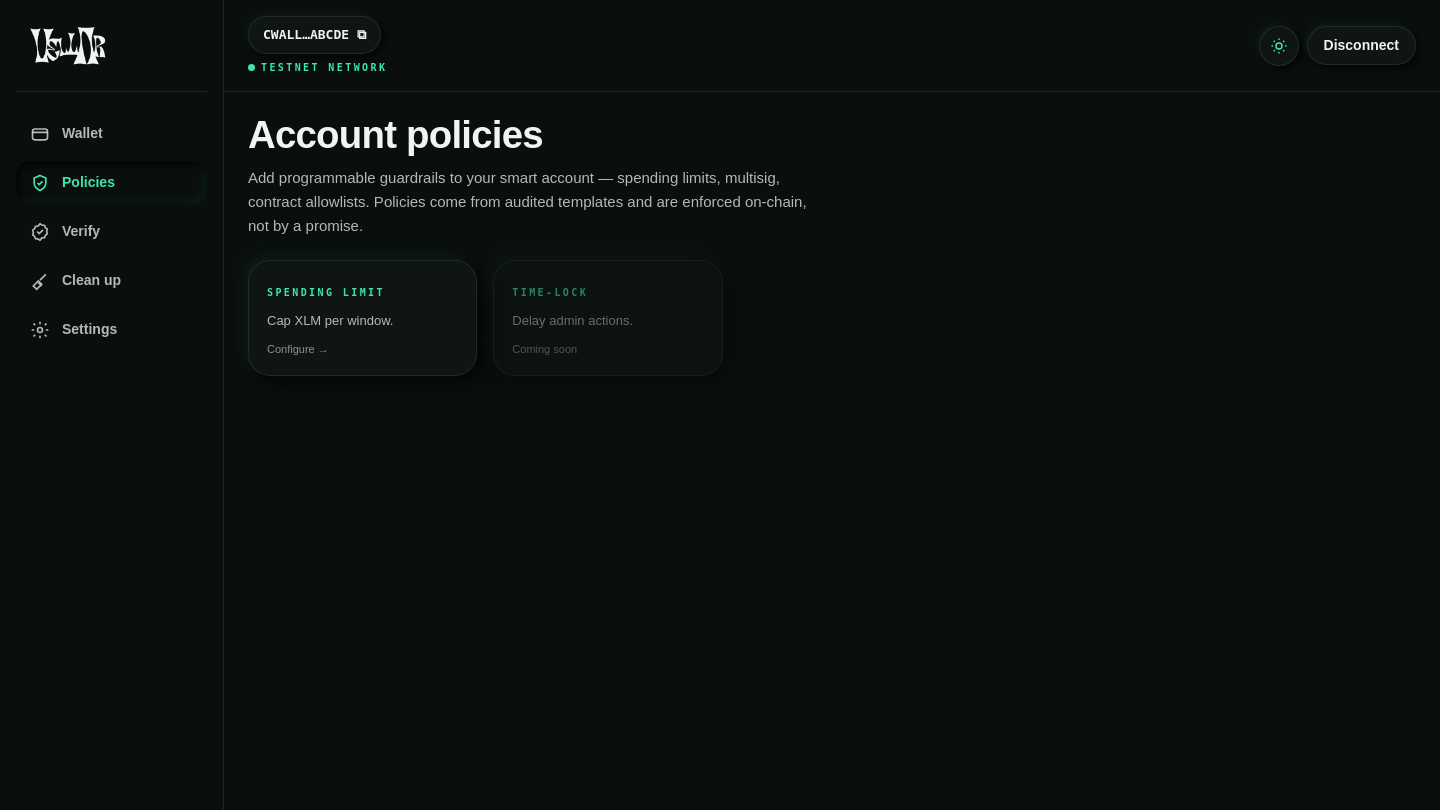
Policy builder › surfaces validation errors without generating
The width and height of the screenshot is (1440, 810).
Step 1. Click the text "Spending limit" → (326, 293), box [267,287,385,298]
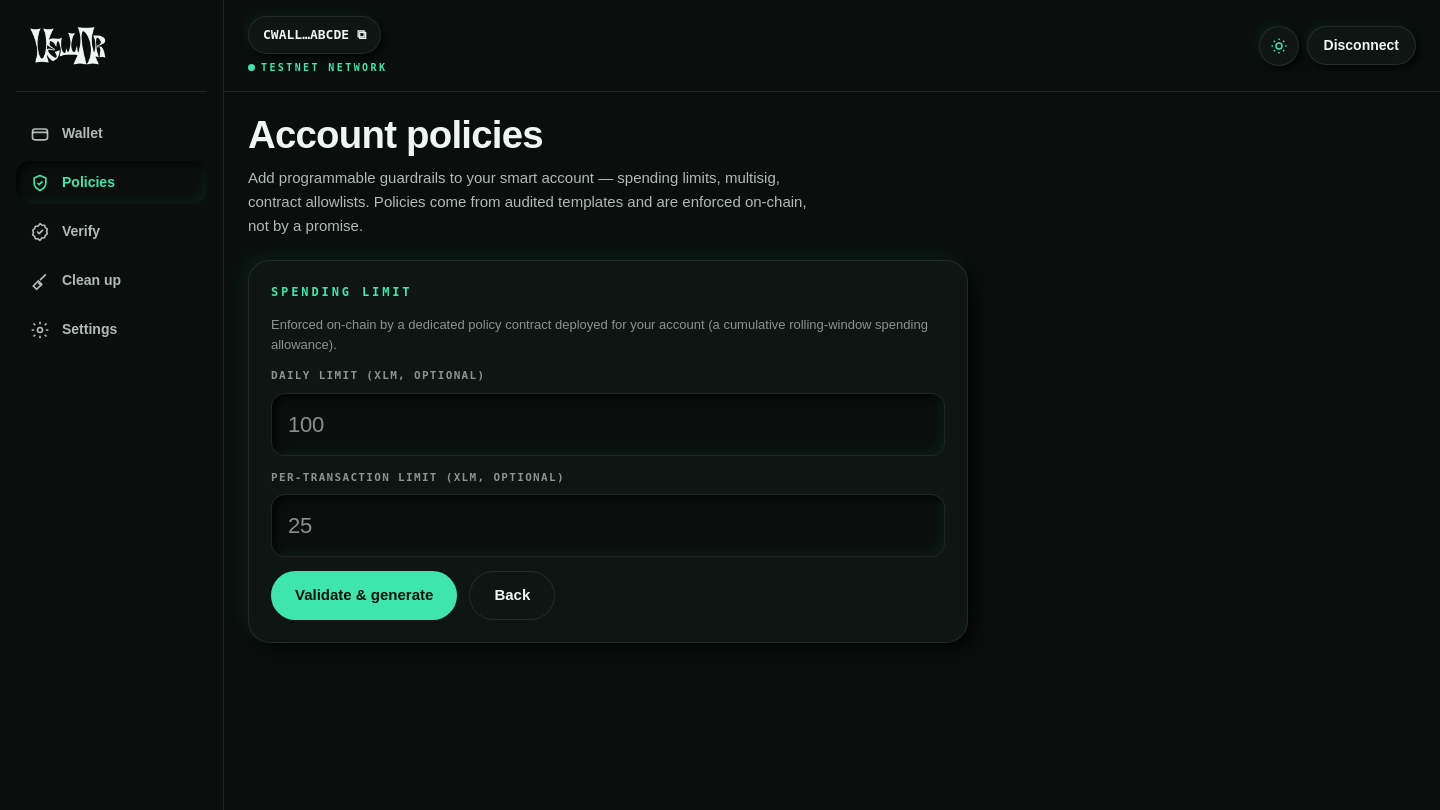
Step 2. Click the button "Validate & generate" → (364, 596), box [271,571,457,620]
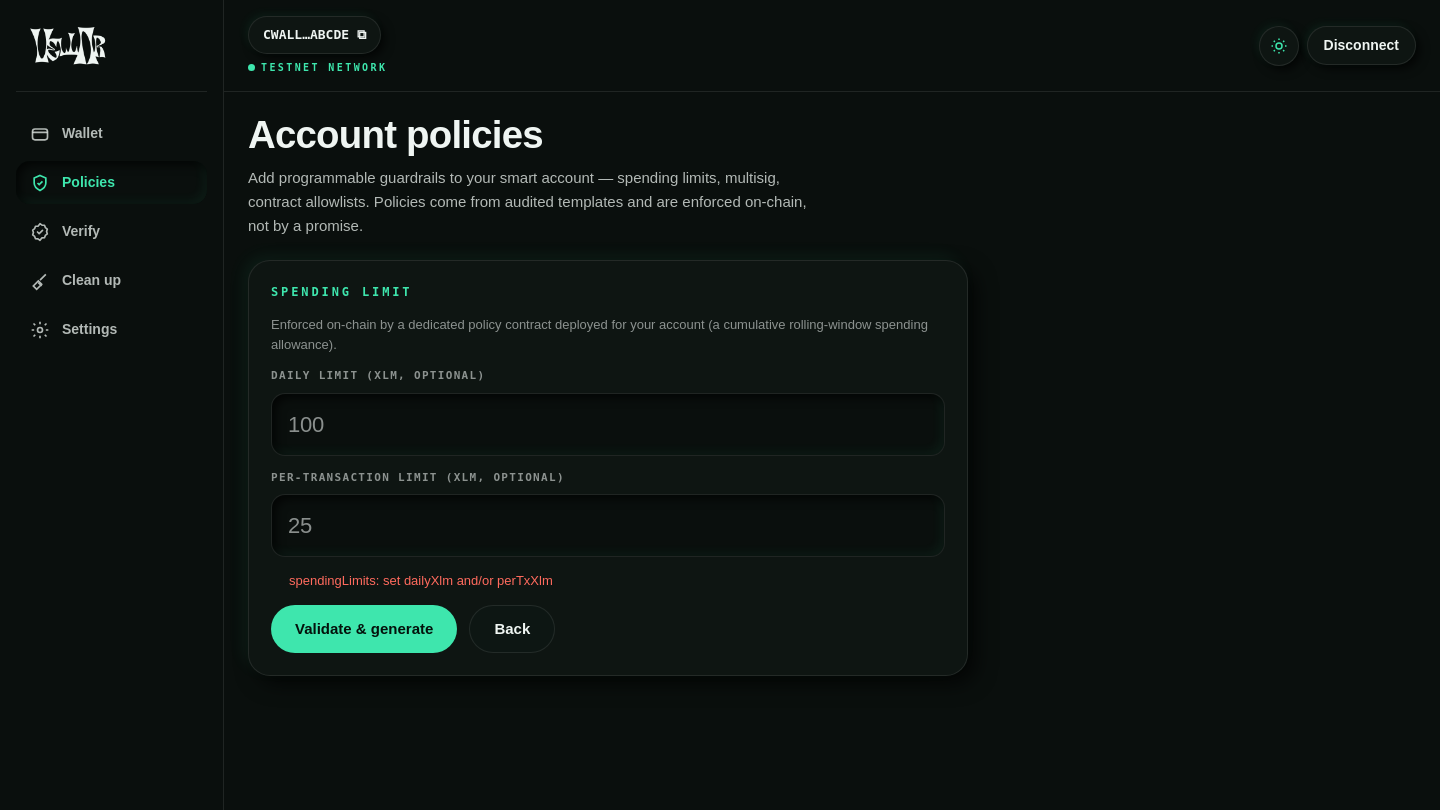
Expected: the message shows "set dailyXlm", [289,573,553,588]
